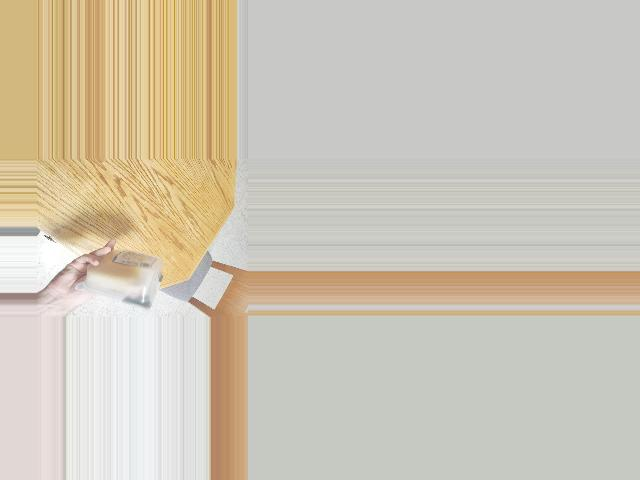cheese: (83, 246, 165, 307)
